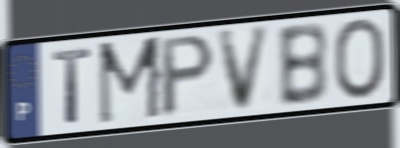B: (275, 20, 330, 110)
M: (96, 33, 165, 129)
O: (331, 15, 388, 102)
P: (159, 32, 218, 122)
T: (50, 45, 94, 127)
V: (215, 23, 273, 116)
